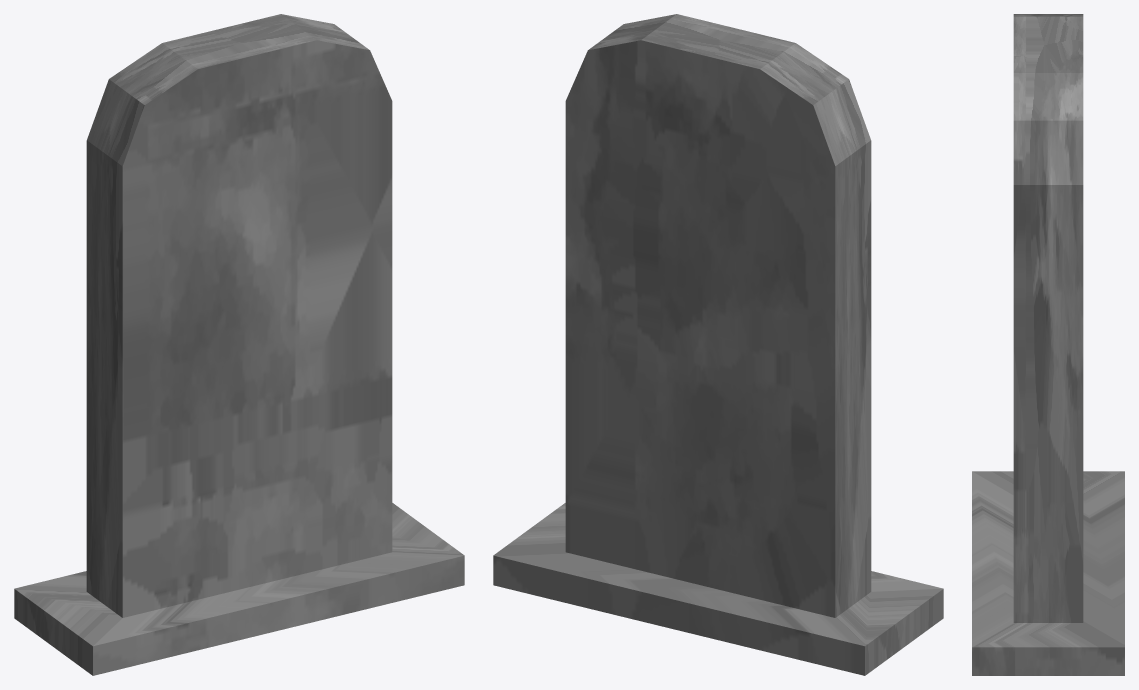
Rendered from tombstone.fbx.
3 views of the same model, side by side, from view 1: azimuth 30°, elevation 25°; view 2: azimuth 150°, elevation 25°; view 3: azimuth 270°, elevation 25° (orthographic). The views are drawn at different scales.
Parts seen in each view (by area): view 1: tombstone; view 2: tombstone; view 3: tombstone.
Boxes of the visible parts, x1,y1,x2,y2 form: tombstone: (14,14,464,675); tombstone: (493,14,943,675); tombstone: (972,14,1124,675).
Size of the model in its own units: 59.73 by 85.99 by 21.92.
Materials: 1 (1 with a texture image).
